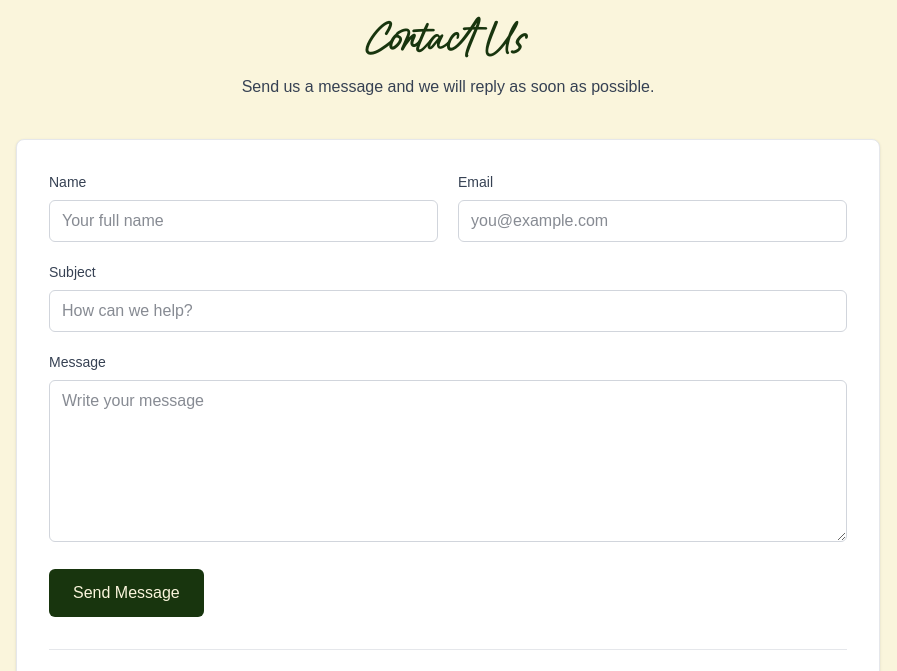
it: ContactView › shows error message on network failure
Type "Joe" into the field with placeholder "Your full name" at (244, 221), box [49, 200, 438, 242]
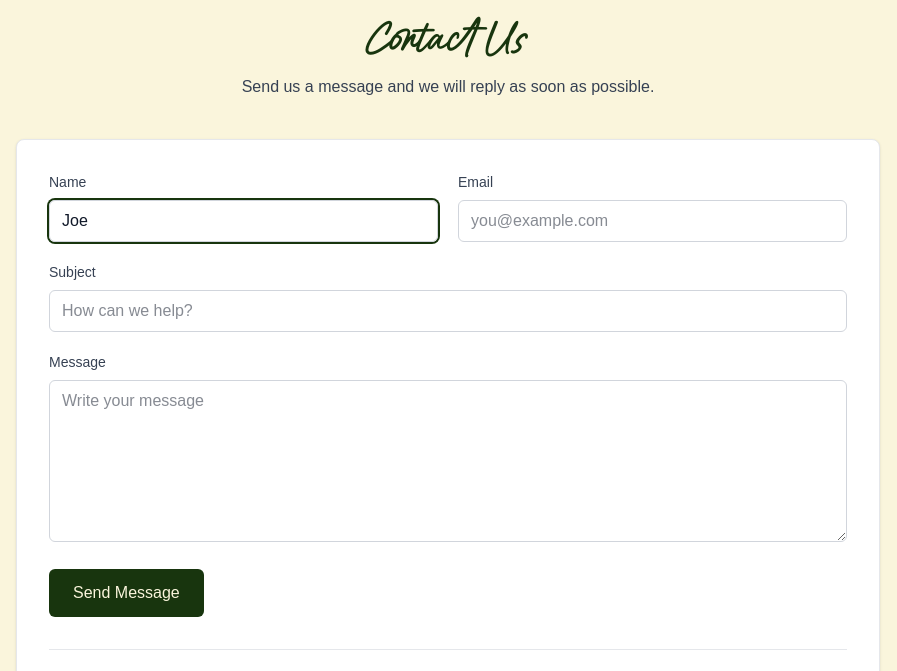
Type "joe@test.com" into the field with placeholder "you@example.com" at (652, 221), box [458, 200, 847, 242]
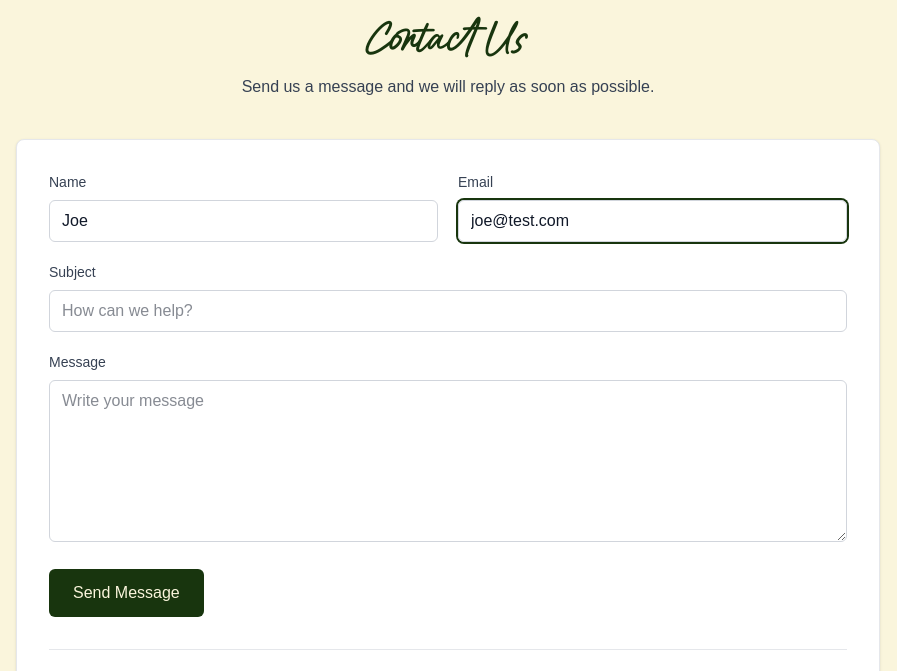
Type "Hello" into the field with placeholder "How can we help?" at (448, 311), box [49, 290, 847, 332]
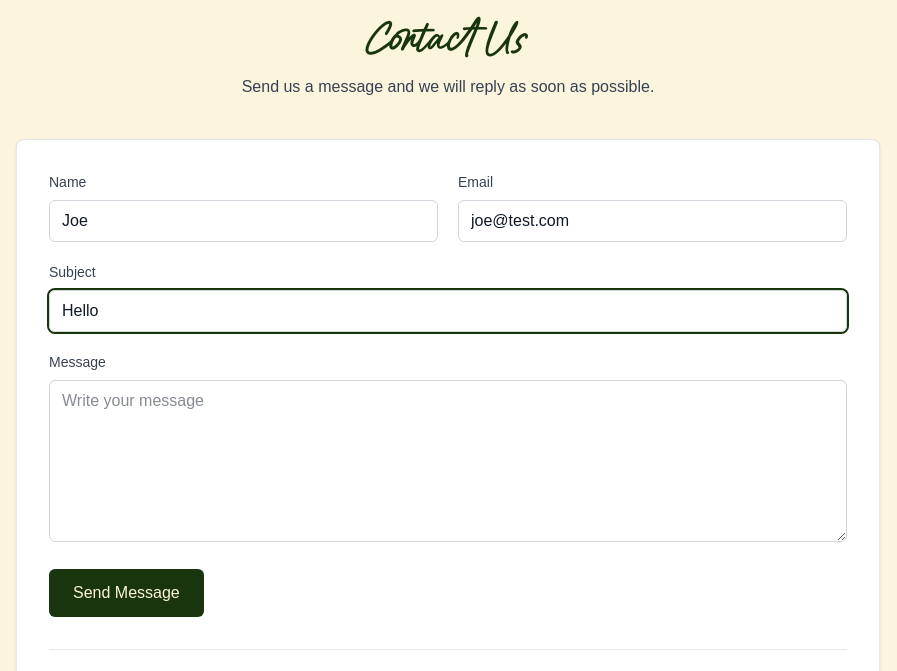
Type "Hi there" into the text box with placeholder "Write your message" at (448, 461), box [49, 380, 847, 542]
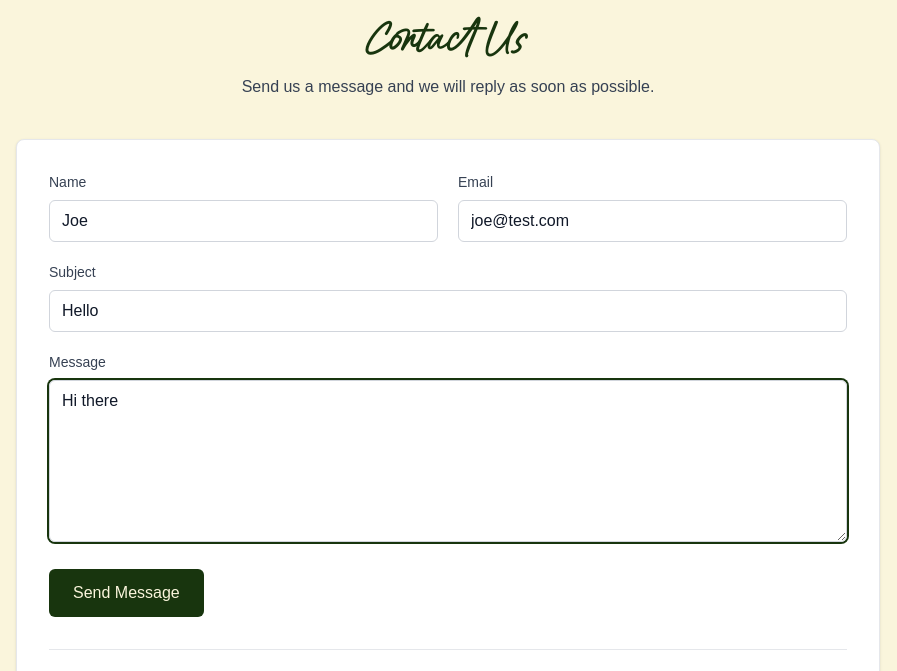
Click the button "Send Message" at (126, 593), box [49, 569, 204, 617]
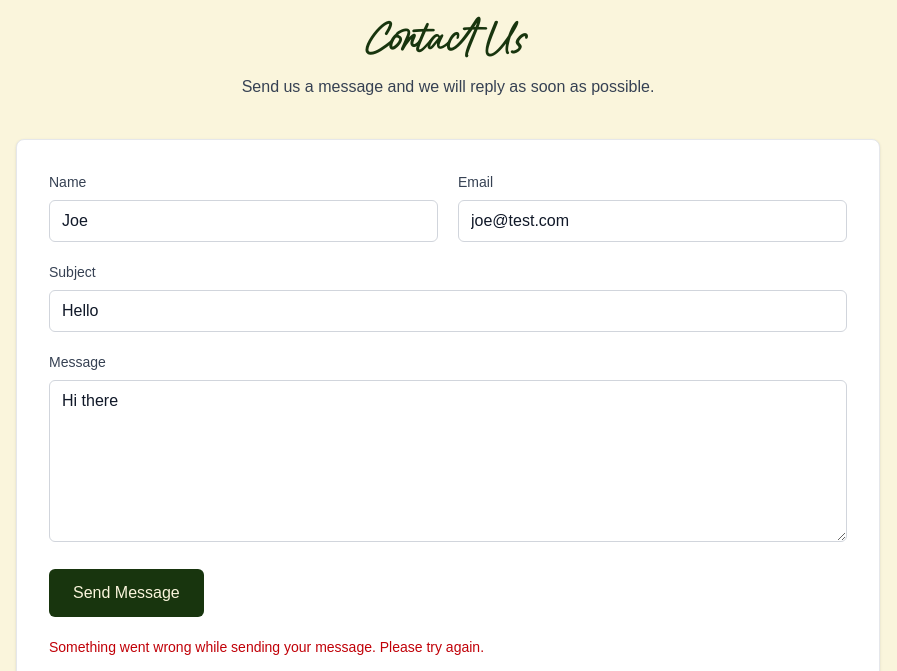
Now the text "Something went wrong while sending your message. Please try again." is shown, box [49, 639, 484, 655]
